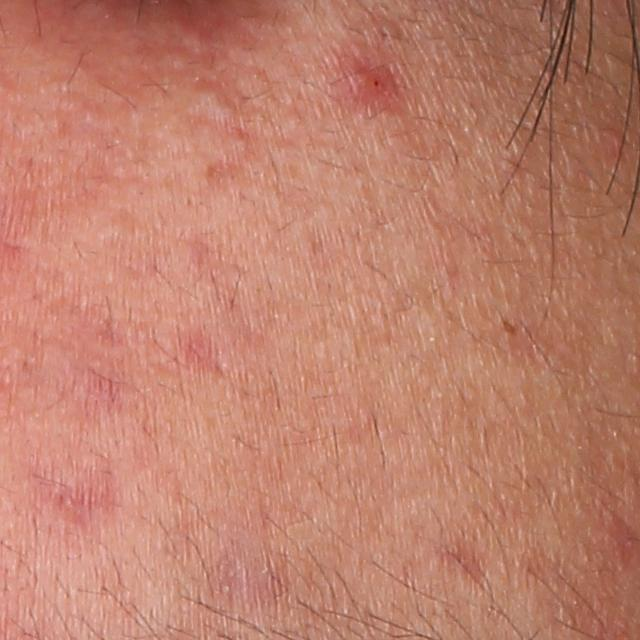papule: (336, 50, 407, 117)
